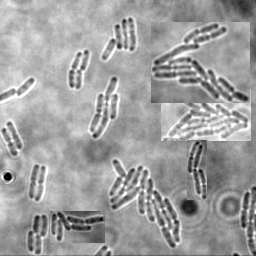Dividing: (67, 52, 81, 89), (1, 128, 18, 157), (34, 166, 47, 202), (28, 164, 39, 200), (239, 192, 249, 229)
Microcolony: (151, 22, 250, 103), (109, 158, 180, 249), (161, 89, 251, 141), (88, 76, 119, 139), (50, 211, 105, 243), (101, 18, 136, 61), (187, 140, 207, 200), (27, 214, 48, 255)
Rod: (5, 121, 23, 150), (16, 78, 34, 99), (79, 50, 89, 72), (73, 69, 82, 90)
